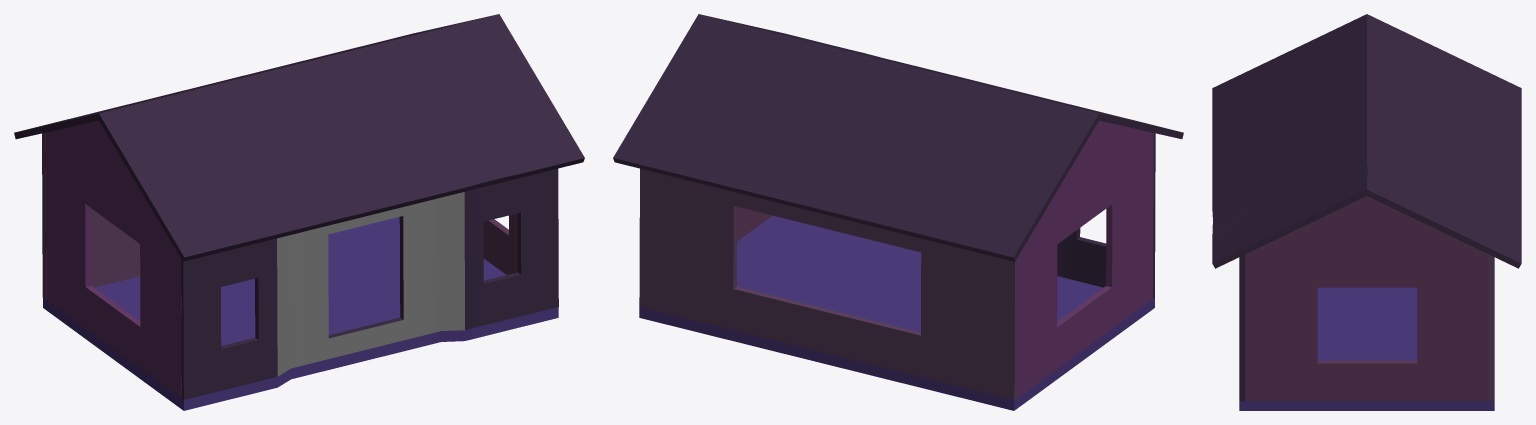
The model's file is House.fbx.
3 renders of one model, left to right at view 1: azimuth 30°, elevation 25°; view 2: azimuth 150°, elevation 25°; view 3: azimuth 270°, elevation 25°, orthographic. The views are drawn at different scales.
Visible parts, largest first — view 1: polySurface4 (×6); view 2: polySurface4 (×5); view 3: polySurface4 (×4).
Part boxes in pixels (<box>): polySurface4 (×6): <box>14,14,584,410</box>; polySurface4 (×5): <box>613,14,1183,410</box>; polySurface4 (×4): <box>1212,14,1521,410</box>.
Bounding box in the file's own units: 16.78 × 10.05 × 12.37.
